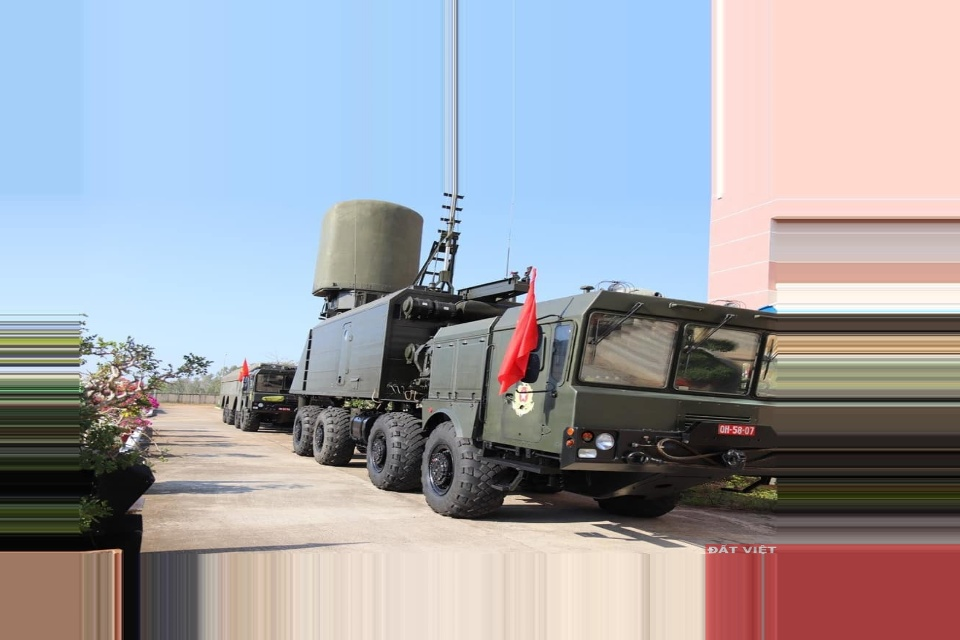plate: (717, 418, 760, 446)
